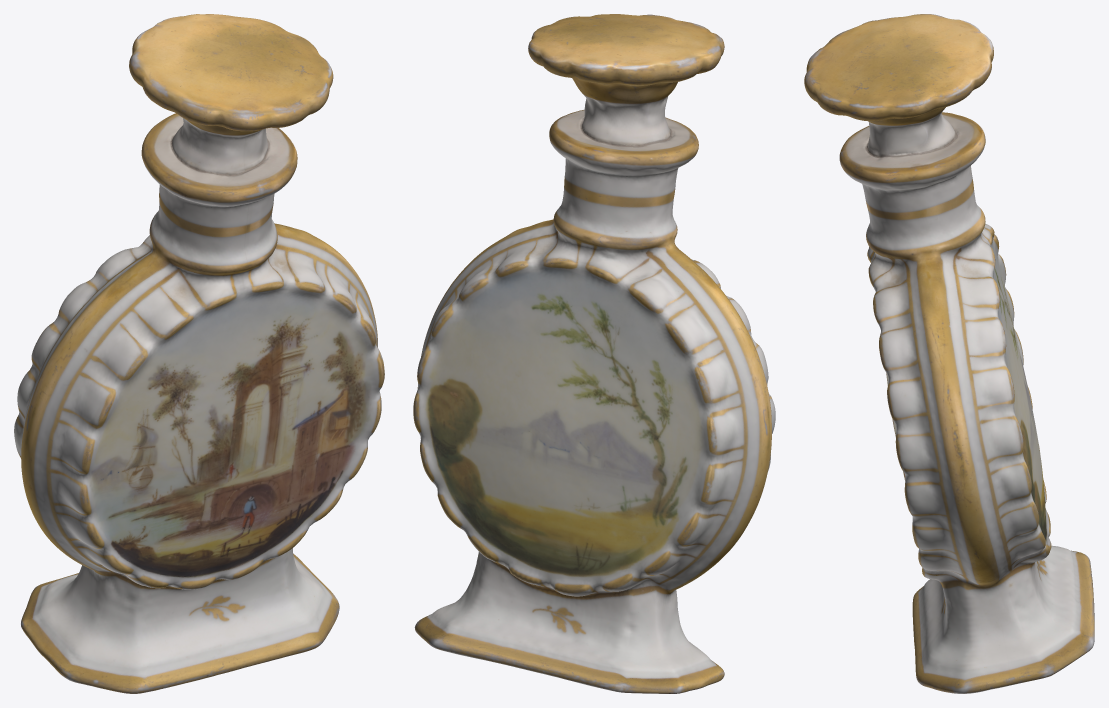
Rendered from perfume_bottle_with_a_landscape.glb.
3 renders of one model, left to right at view 1: azimuth 30°, elevation 25°; view 2: azimuth 150°, elevation 25°; view 3: azimuth 270°, elevation 25°, orthographic. The views are drawn at different scales.
Visible parts, largest first — view 1: Object_2, Object_3; view 2: Object_2, Object_3; view 3: Object_2, Object_3.
Part boxes in pixels (bbox=[...]): Object_2: bbox=[14, 14, 384, 693]; Object_3: bbox=[18, 14, 379, 457]; Object_2: bbox=[413, 17, 775, 693]; Object_3: bbox=[489, 14, 765, 543]; Object_2: bbox=[808, 18, 1094, 693]; Object_3: bbox=[804, 14, 1038, 445].
Bounding box in the file's own units: 0.2455 × 0.4196 × 0.1858.
1 material, 1 textured.
